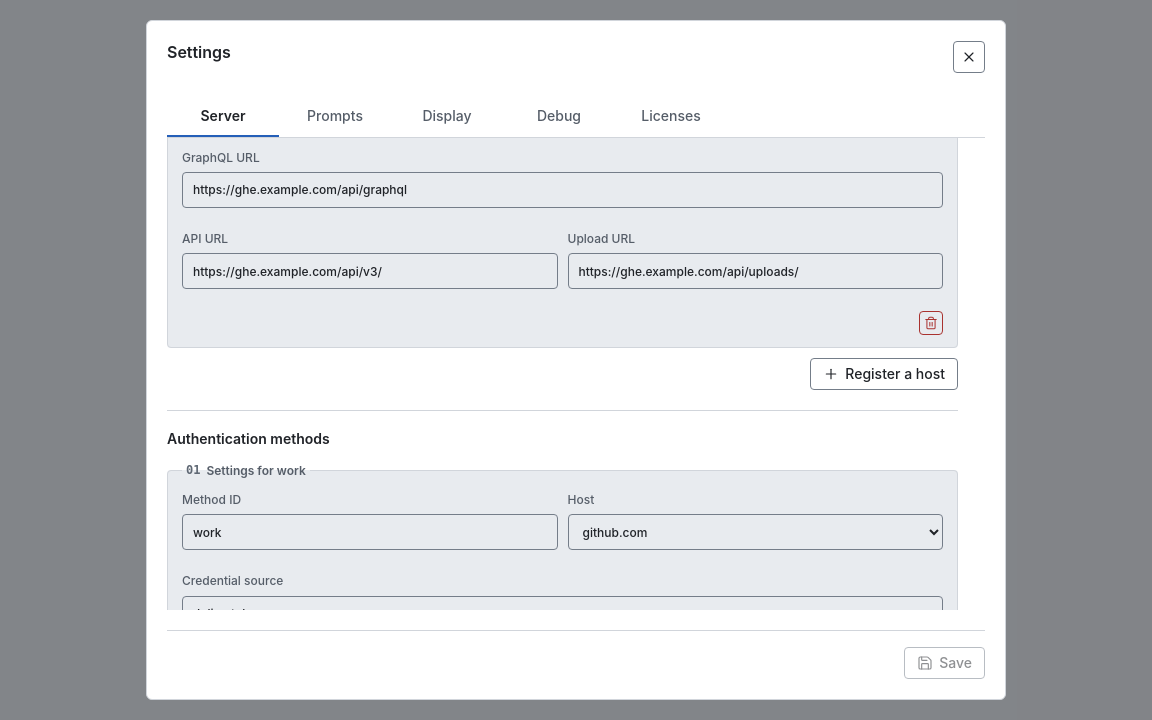
Test case: SettingsDialog › blocks the save while a draft is incomplete
(page scrolled)
Click the button "Register a host": (884, 374) [810,358,958,390]
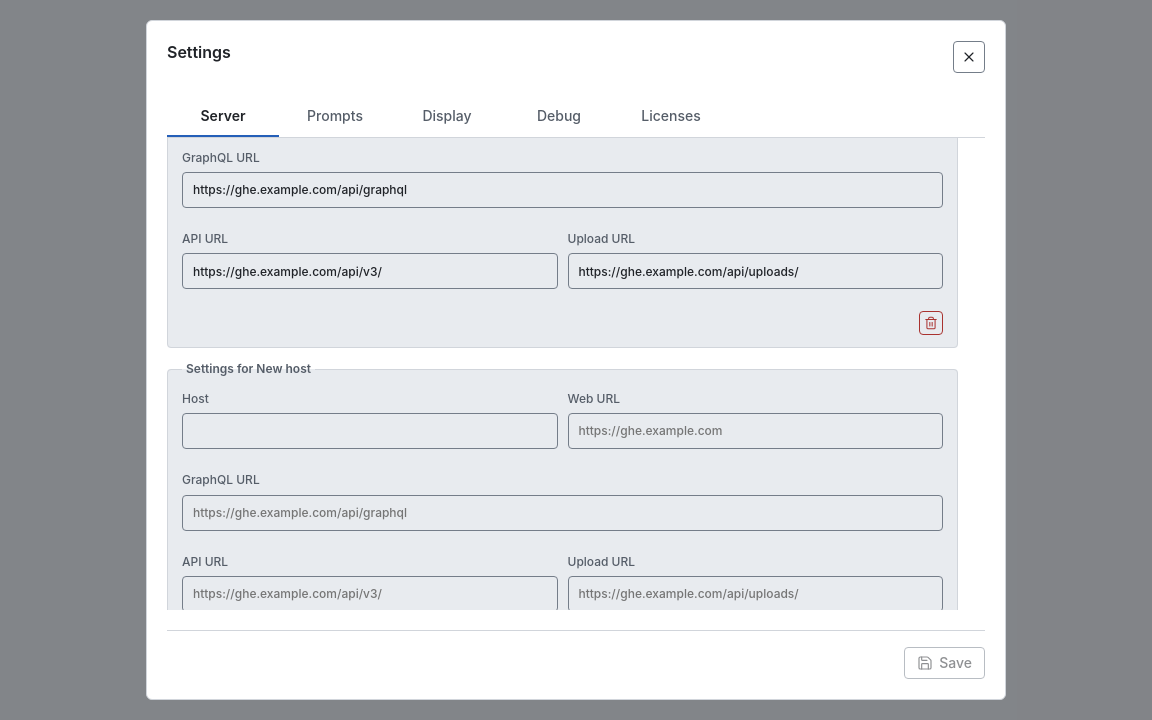
Expected: the button "Save" is disabled, [904,647,985,679]
In the field labelled "Host": (370, 431) [182,413,558,449], type "ghe-two.example.com"
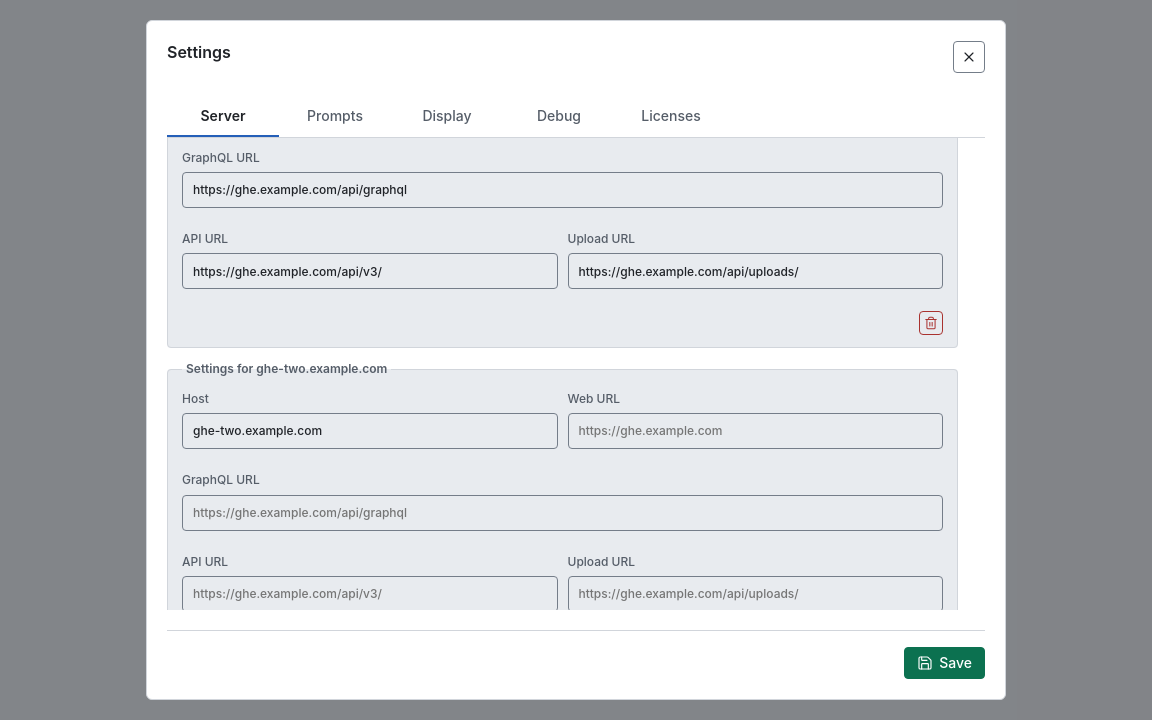
Expected: the button "Save" is enabled, [904,647,985,679]
